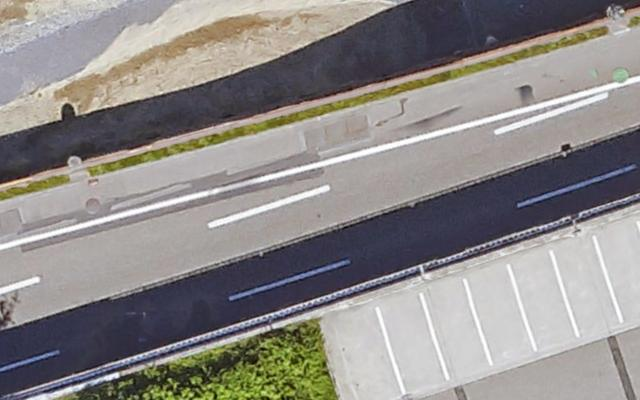tree: (98, 330, 338, 400)
